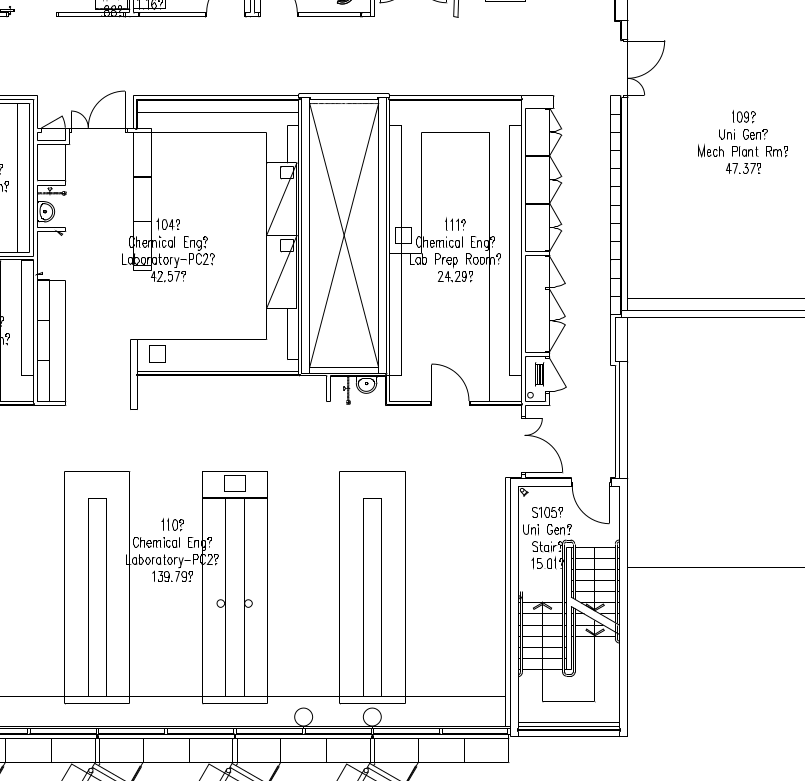door: (68, 81, 130, 136), (627, 31, 674, 101), (520, 416, 566, 476), (426, 357, 472, 417), (567, 482, 611, 532)
